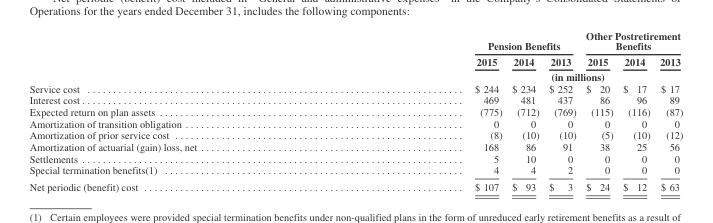table: (28, 29, 682, 192)
table column: (28, 29, 335, 192), (335, 29, 506, 192), (506, 29, 543, 192), (543, 29, 580, 192), (580, 29, 617, 192), (617, 29, 654, 192), (654, 29, 682, 192)
table column header: (28, 29, 682, 82)
table row: (28, 29, 682, 53), (28, 53, 682, 68), (28, 163, 682, 178), (28, 68, 682, 82), (28, 178, 682, 192), (28, 82, 682, 94), (28, 105, 682, 117), (28, 128, 682, 140), (28, 140, 682, 152), (28, 94, 682, 105), (28, 117, 682, 128), (28, 152, 682, 163)
table spanning cell: (335, 29, 580, 53), (335, 68, 682, 82), (580, 29, 682, 53)
